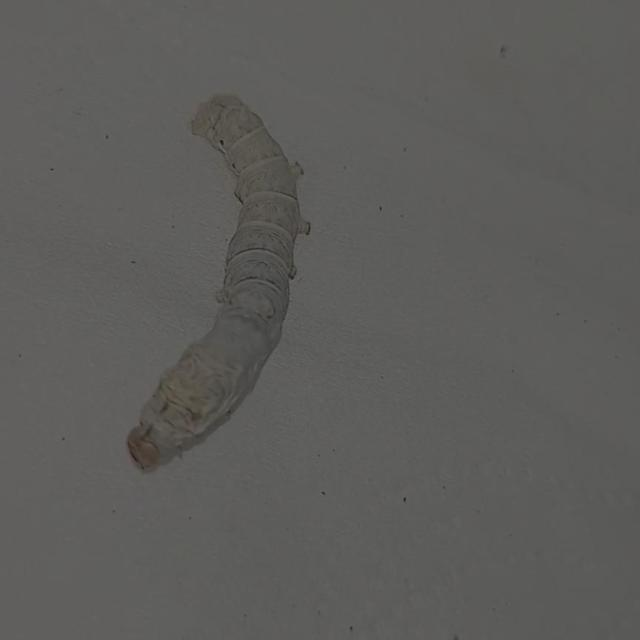Healthy: (122, 87, 320, 480)
